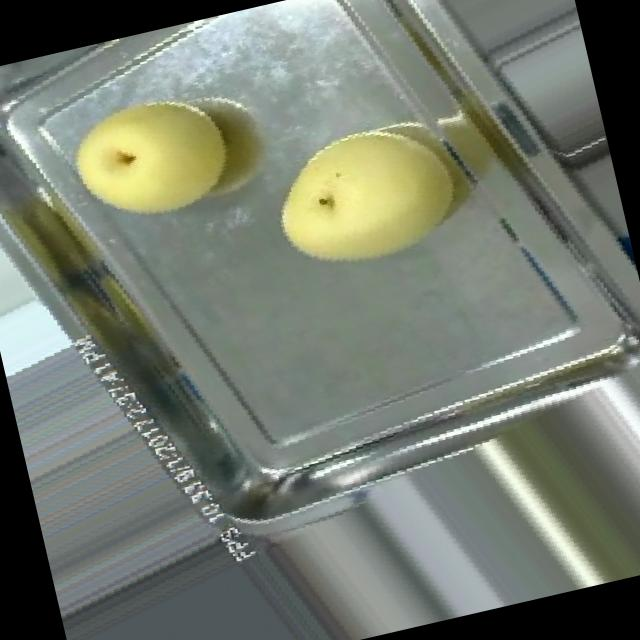Fruit: (239, 85, 493, 312), (39, 63, 259, 254)
